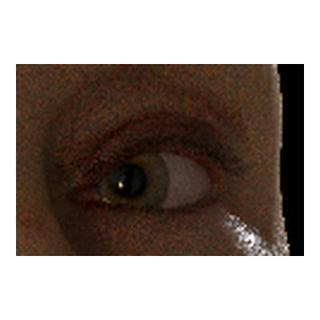pupil: (113, 164, 146, 197)
